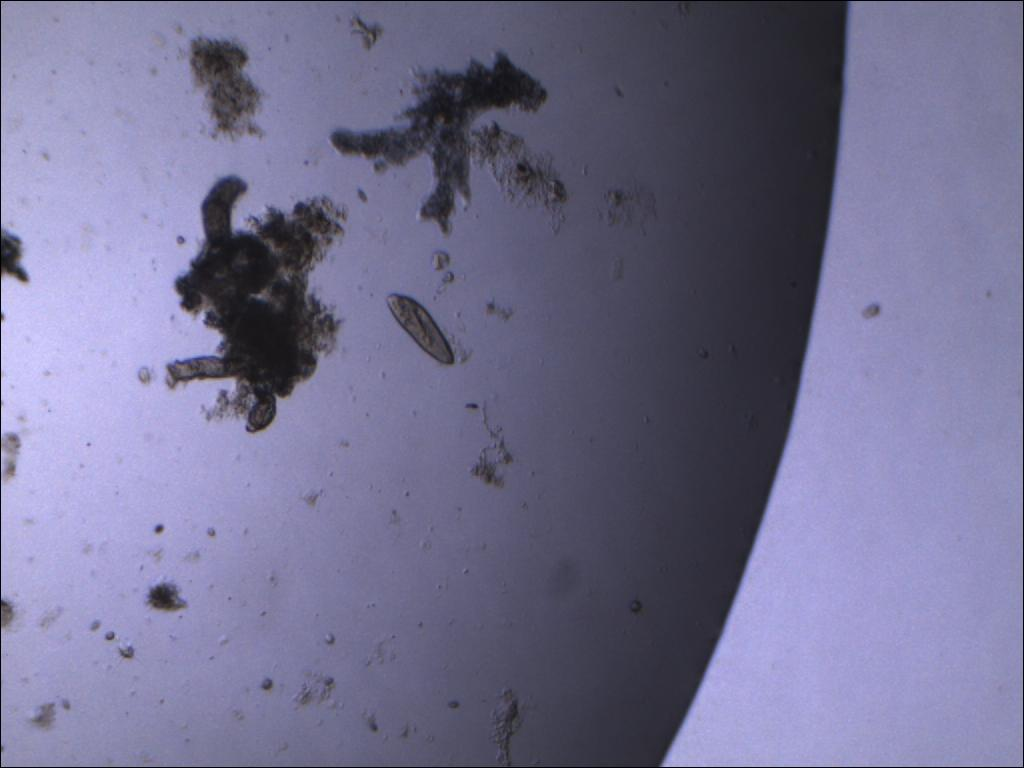amoeba: (324, 43, 554, 239)
